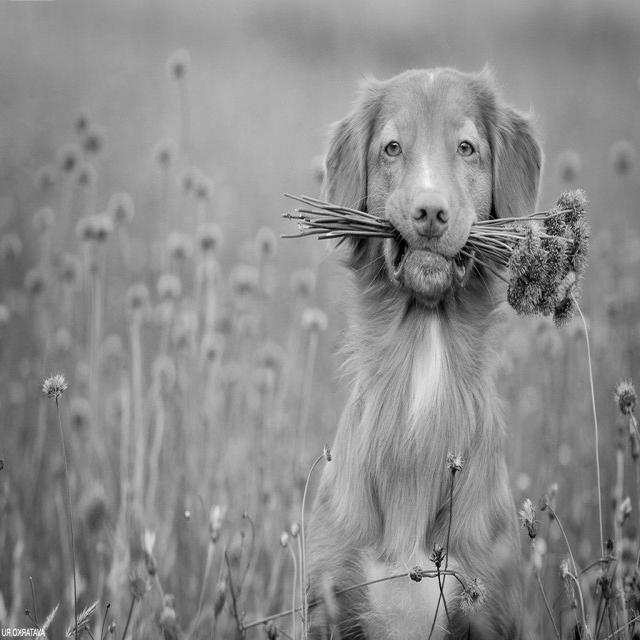Dogs: (302, 63, 544, 640)
